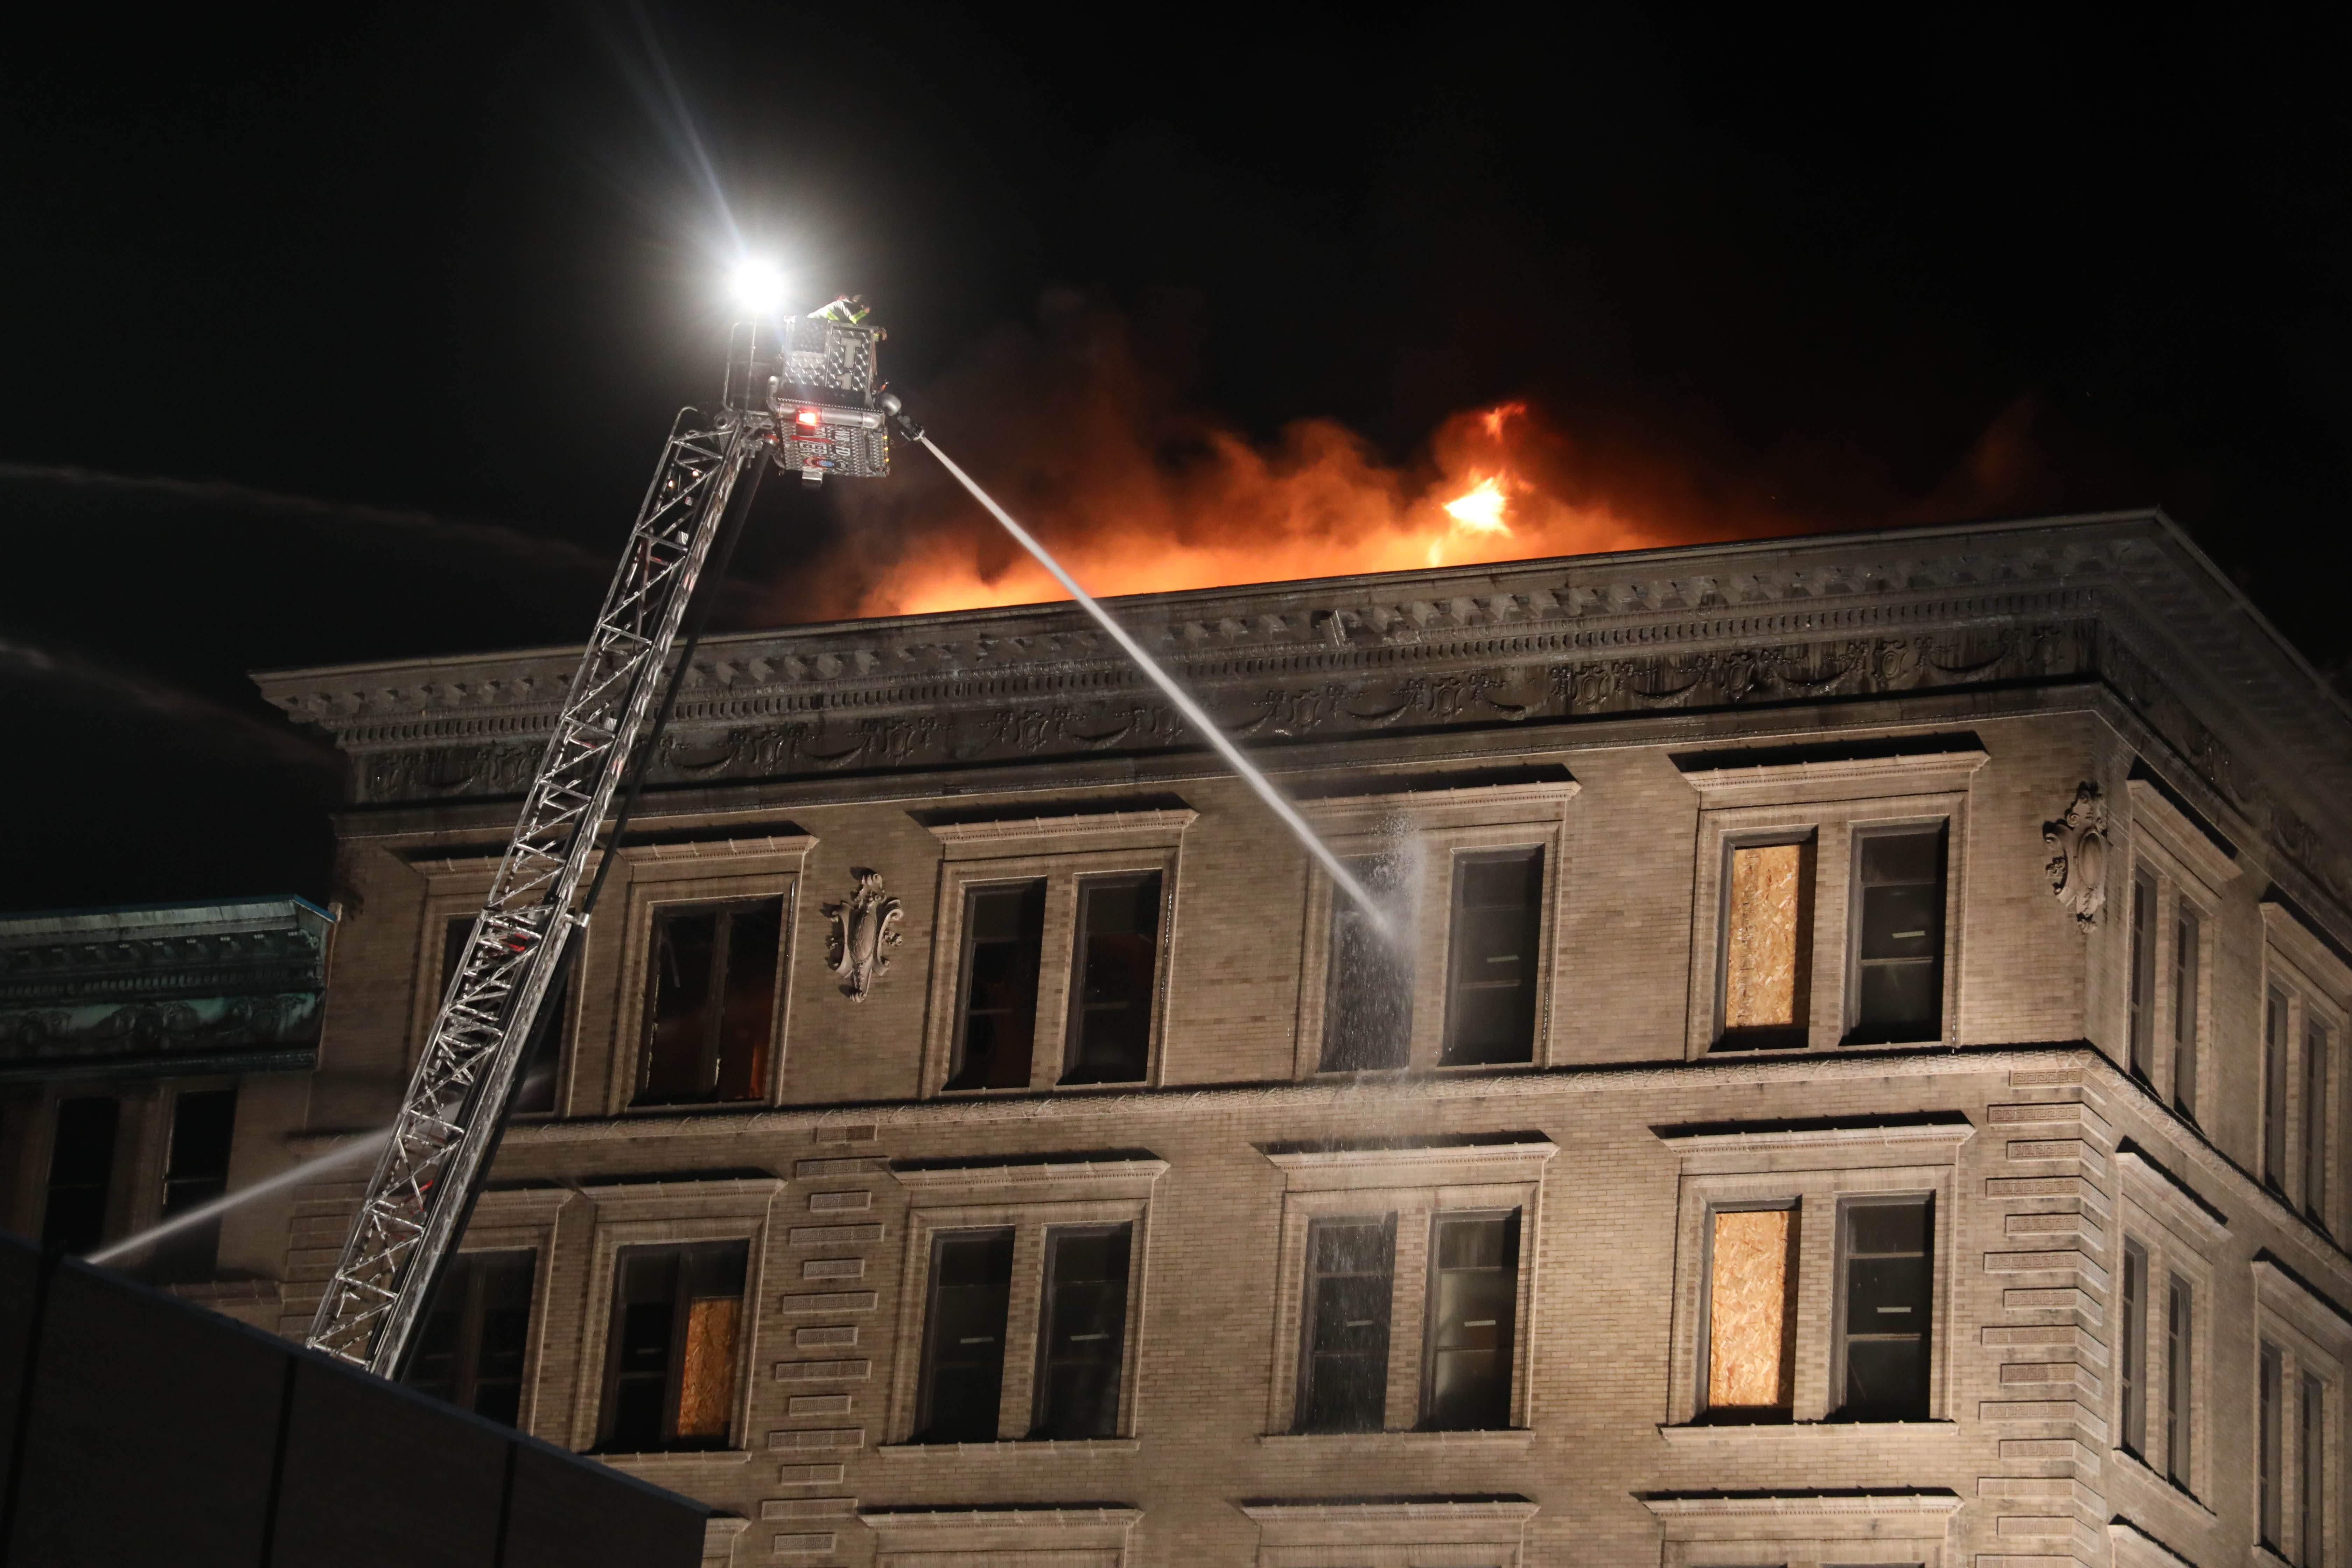Fire: (842, 423, 1734, 611)
